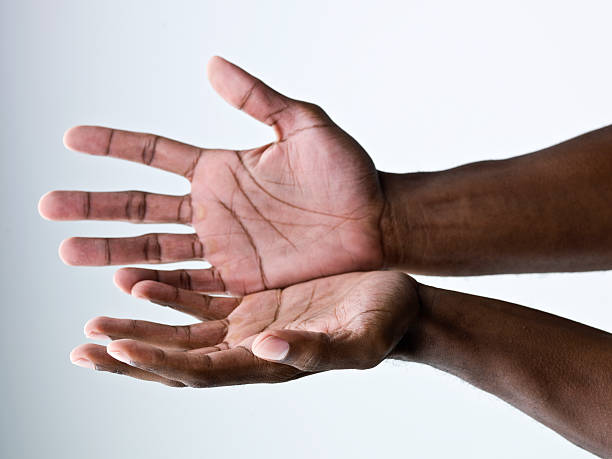hand: (32, 37, 434, 420)
